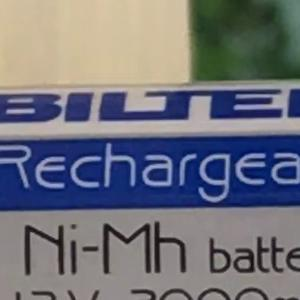keyword: (14, 211, 196, 286)
